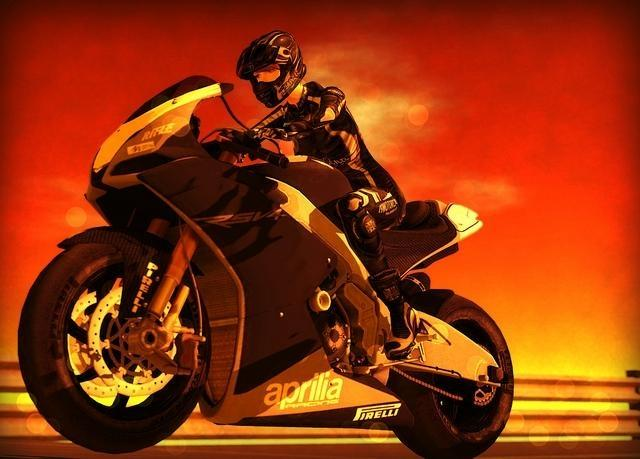motorcycle: (20, 74, 518, 452)
